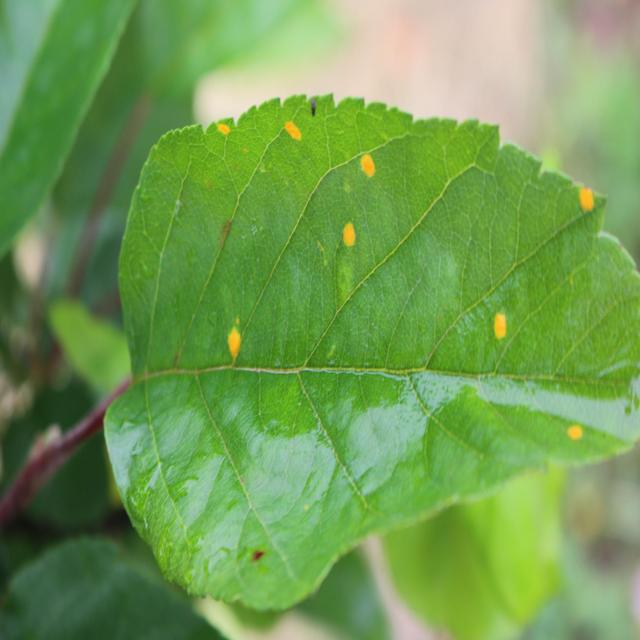Rust: (556, 405, 594, 455), (220, 319, 249, 377), (491, 294, 514, 361), (575, 175, 601, 222), (334, 216, 366, 254), (351, 150, 381, 187), (213, 110, 239, 144), (285, 121, 311, 155)
